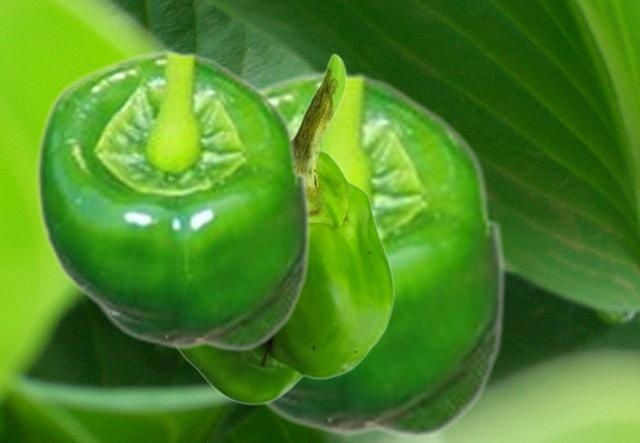bell_pepper: (255, 68, 506, 438), (33, 48, 311, 351), (177, 52, 394, 404)
